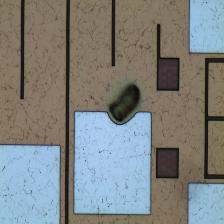PARTICLE: (107, 79, 145, 127)
